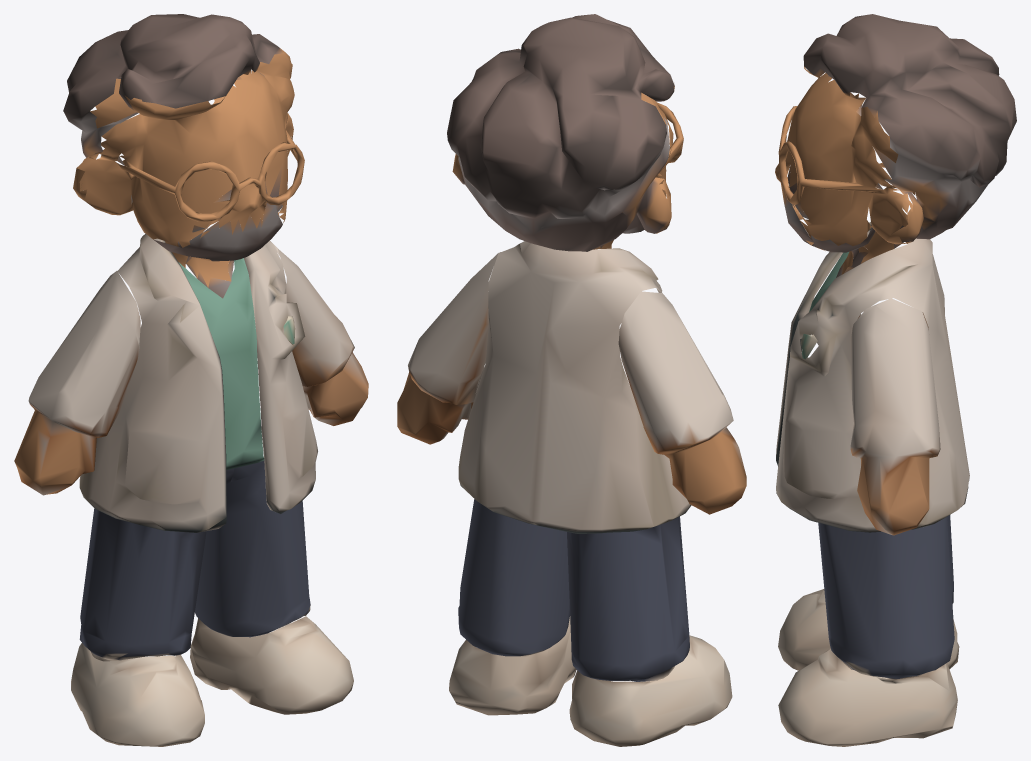
3 views of the same model, side by side, from view 1: azimuth 30°, elevation 25°; view 2: azimuth 150°, elevation 25°; view 3: azimuth 270°, elevation 25° (orthographic).
Parts seen in each view (by area): view 1: top, bottom, head, hair, sleeve_r, shoe_l, shoe_r, sleeve_l; view 2: top, hair, bottom, sleeve_r, shoe_r, sleeve_l, shoe_l, head; view 3: hair, top, bottom, sleeve_l, head, shoe_l, shoe_r.
Part boxes in pixels (left/top/right/bottom): top: left=79, top=228, right=317, bottom=532; bottom: left=79, top=460, right=310, bottom=661; head: left=76, top=48, right=304, bottom=287; hair: left=63, top=14, right=292, bottom=298; sleeve_r: left=14, top=271, right=140, bottom=495; shoe_l: left=190, top=616, right=353, bottom=714; shoe_r: left=71, top=643, right=204, bottom=746; sleeve_l: left=269, top=240, right=368, bottom=425; top: left=458, top=241, right=691, bottom=533; hair: left=447, top=14, right=674, bottom=251; bottom: left=458, top=499, right=689, bottom=681; sleeve_r: left=618, top=291, right=746, bottom=514; shoe_r: left=569, top=635, right=732, bottom=746; sleeve_l: left=397, top=252, right=500, bottom=444; shoe_l: left=449, top=616, right=576, bottom=715; head: left=598, top=86, right=683, bottom=248; hair: left=784, top=14, right=1016, bottom=277; top: left=776, top=221, right=969, bottom=532; bottom: left=818, top=515, right=954, bottom=679; sleeve_l: left=800, top=298, right=940, bottom=535; head: left=775, top=66, right=915, bottom=274; shoe_l: left=778, top=648, right=957, bottom=746; shoe_r: left=778, top=589, right=959, bottom=678.
Bounding box in the file's own units: 0.5462 × 1.03 × 0.3393.
